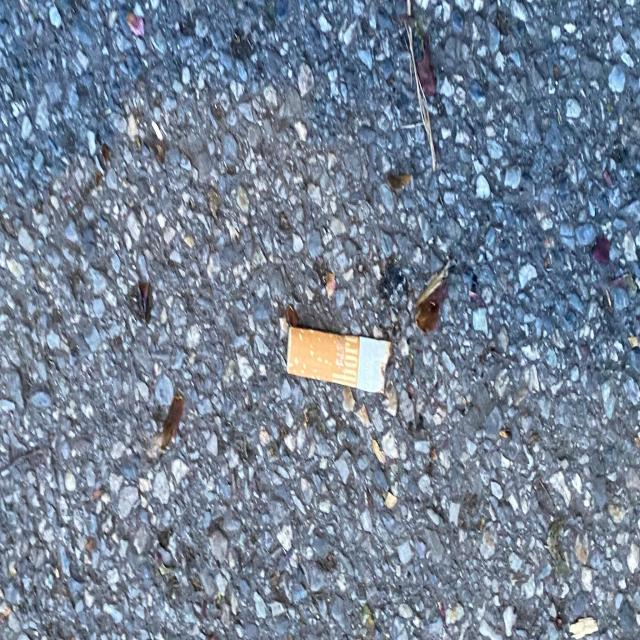other waste: (285, 322, 394, 396)
